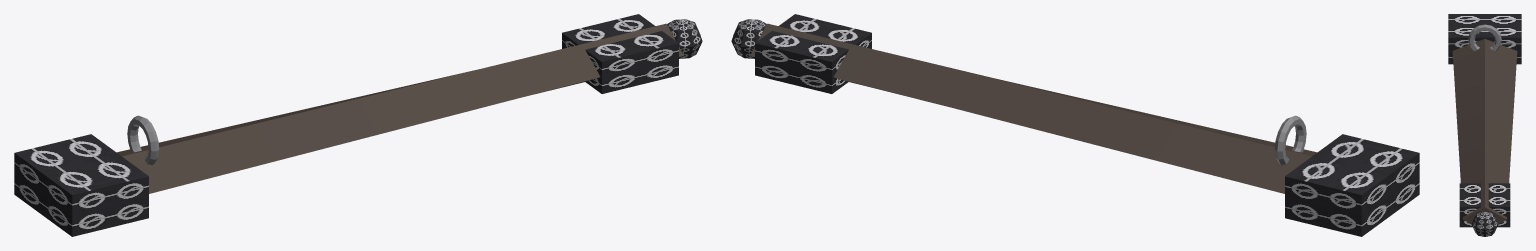
The model's file is kinjal_scabbard.glb.
3 renders of one model, left to right at view 1: azimuth 30°, elevation 25°; view 2: azimuth 150°, elevation 25°; view 3: azimuth 270°, elevation 25°, orthographic. The views are drawn at different scales.
Parts seen in each view (by area): view 1: Kinjal_Scabbard; view 2: Kinjal_Scabbard; view 3: Kinjal_Scabbard.
Part boxes in pixels (x1,y1,x2,y2): Kinjal_Scabbard: [14, 14, 702, 236]; Kinjal_Scabbard: [731, 14, 1419, 236]; Kinjal_Scabbard: [1448, 14, 1521, 236].
Bounding box in the file's own units: 0.427 × 0.046 × 0.065.
3 materials, 1 textured.
